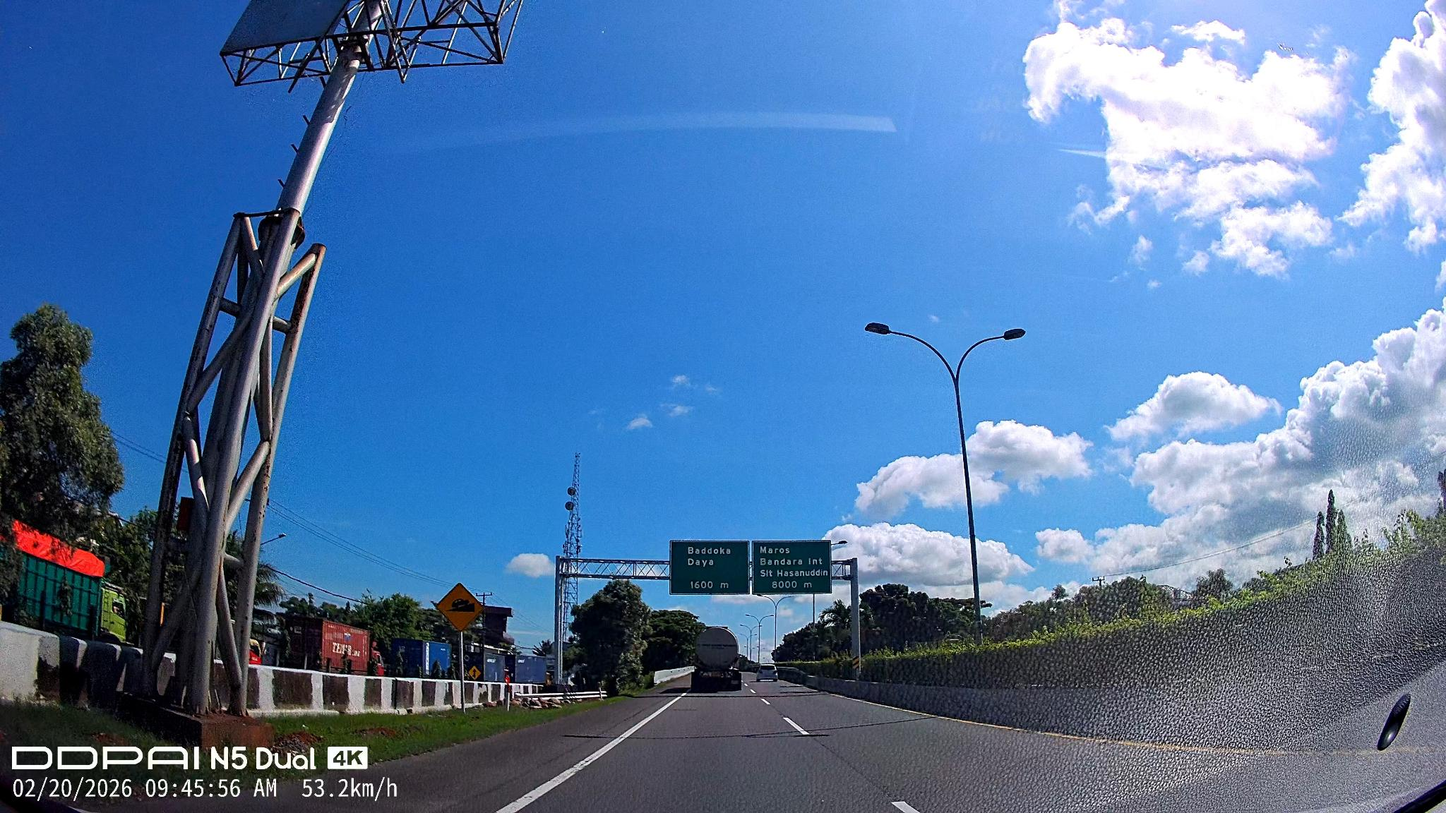rambu_teks: (669, 539, 750, 596), (751, 539, 833, 595)
